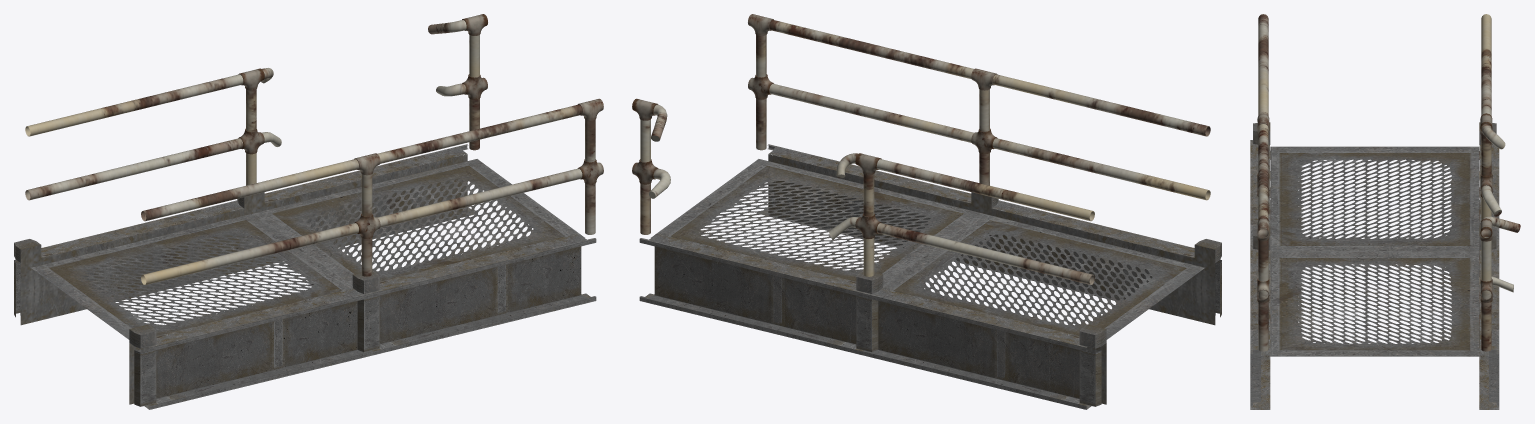
The model's file is upper_platform_broken.fbx.
3 renders of one model, left to right at view 1: azimuth 30°, elevation 25°; view 2: azimuth 150°, elevation 25°; view 3: azimuth 270°, elevation 25°, orthographic. The views are drawn at different scales.
Parts seen in each view (by area): view 1: upper_platform_broken; view 2: upper_platform_broken; view 3: upper_platform_broken.
Part boxes in pixels (x1=…): upper_platform_broken: x1=14, y1=14, x2=603, y2=409; upper_platform_broken: x1=632, y1=14, x2=1221, y2=409; upper_platform_broken: x1=1250, y1=14, x2=1520, y2=409.
Size of the model in its own units: 419 by 166 by 217.
